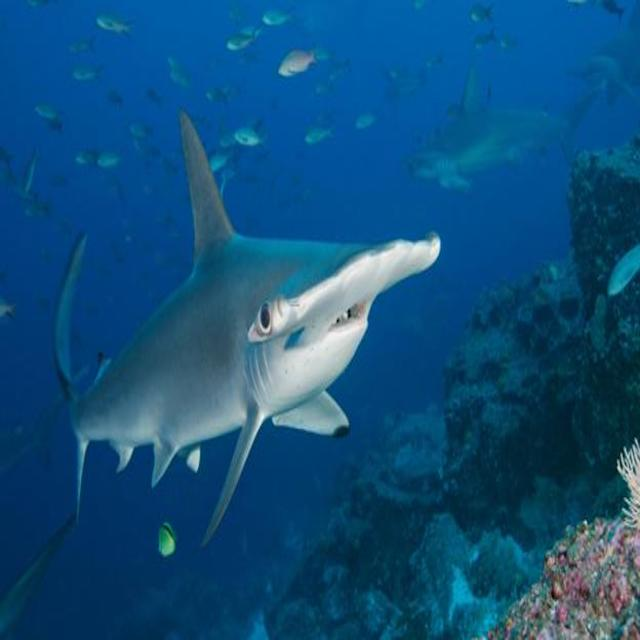hammerhead: (175, 200, 454, 442)
